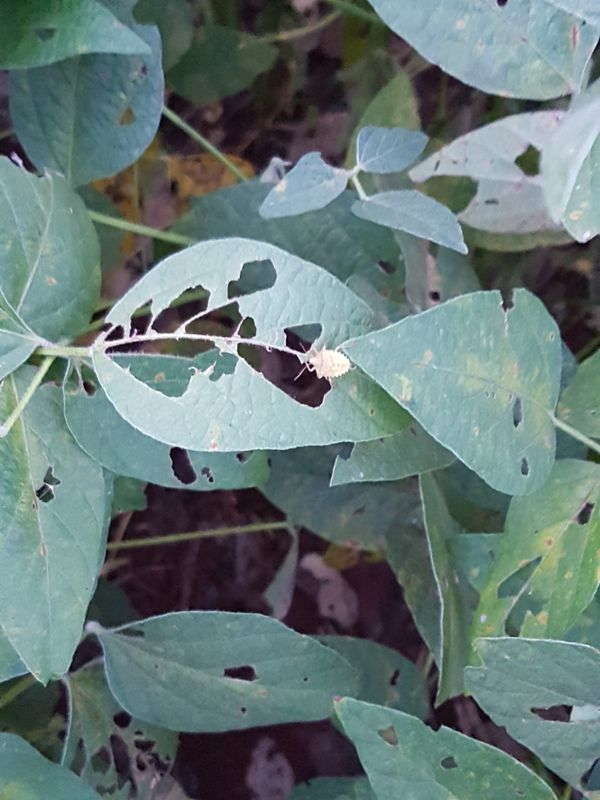Euschistus_heros_ninfa: (287, 335, 363, 392)
